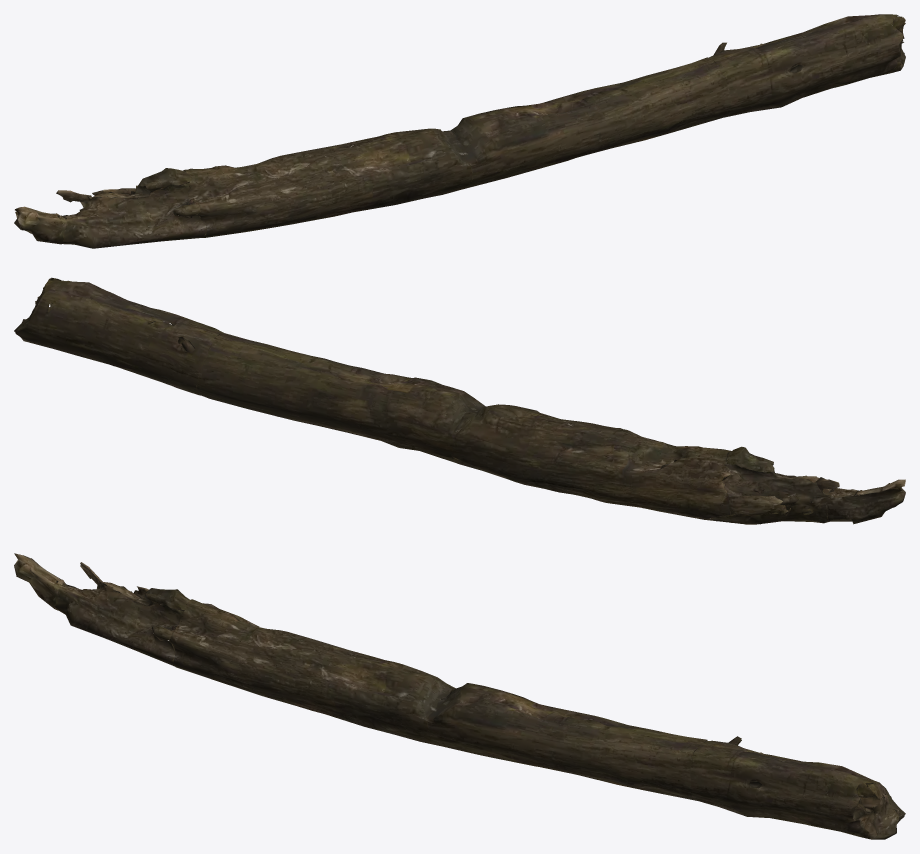
The model's file is dead_tree_trunk.glb.
3 renders of one model, top to bottom at view 1: azimuth 30°, elevation 25°; view 2: azimuth 150°, elevation 25°; view 3: azimuth 330°, elevation 25°, orthographic.
Visible parts, largest first — view 1: dead_tree_trunk; view 2: dead_tree_trunk; view 3: dead_tree_trunk.
Boxes of the visible parts, left/top/right/bottom form: dead_tree_trunk: left=14, top=14, right=905, bottom=248; dead_tree_trunk: left=14, top=277, right=905, bottom=524; dead_tree_trunk: left=14, top=553, right=905, bottom=839.
Size of the model in its own units: 3.05 by 0.2899 by 0.2746.
1 material, 1 textured.
